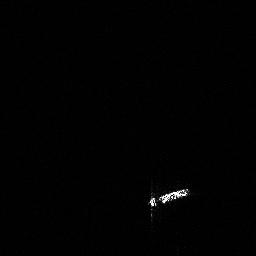ship: (149, 187, 190, 208)
